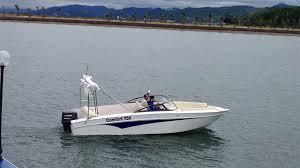Ship: (63, 75, 230, 137)
